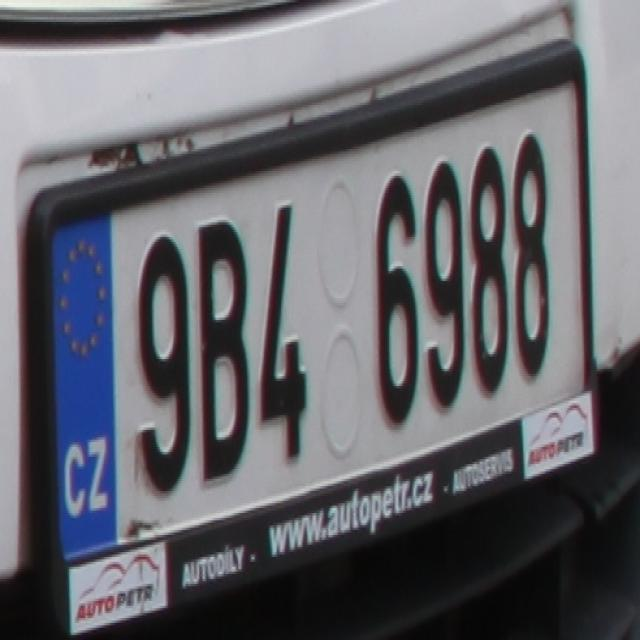4: (254, 200, 311, 462)
6: (374, 171, 418, 430)
8: (467, 142, 511, 391), (510, 130, 549, 378)
9: (134, 232, 190, 493), (420, 154, 464, 410)
B: (194, 215, 250, 484)
